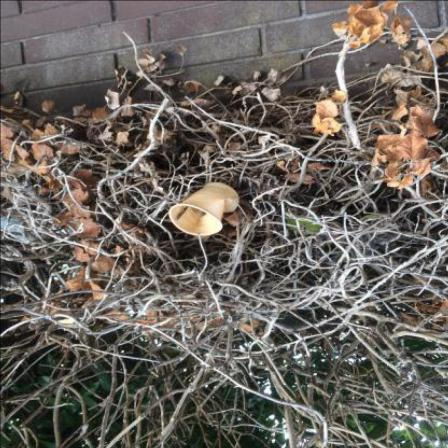Cup: (169, 183, 240, 237)
